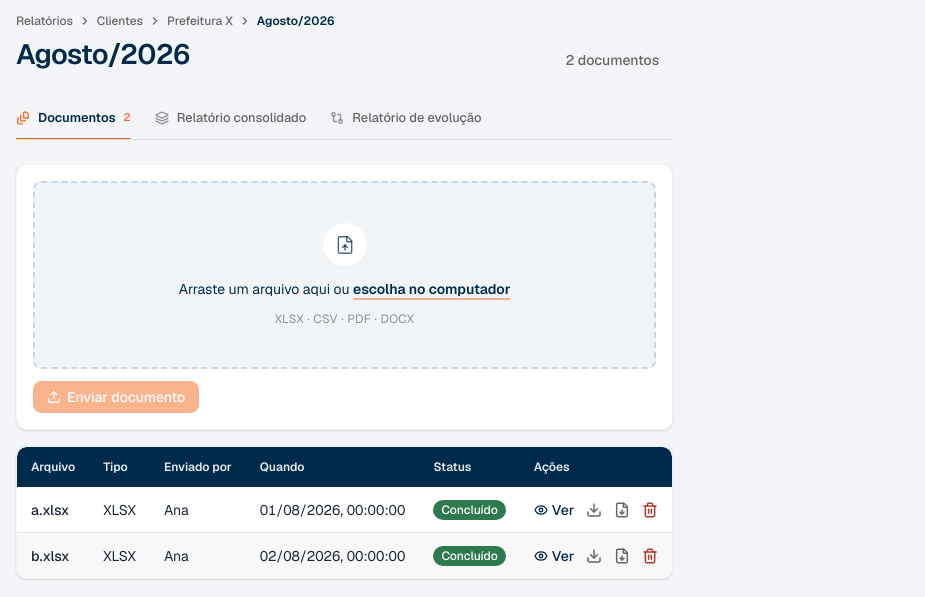
Test: ClienteCompetenciaPage › aba Relatório Consolidado mostra o seletor de documentos quando não há relatório gerado
This screenshot has width=925, height=597.
Check: the heading "Agosto/2026" is shown, box x1=16 y1=37 x2=190 y2=72
Step 1. Click the button "Relatório consolidado" → (230, 118), box x1=155 y1=96 x2=306 y2=139
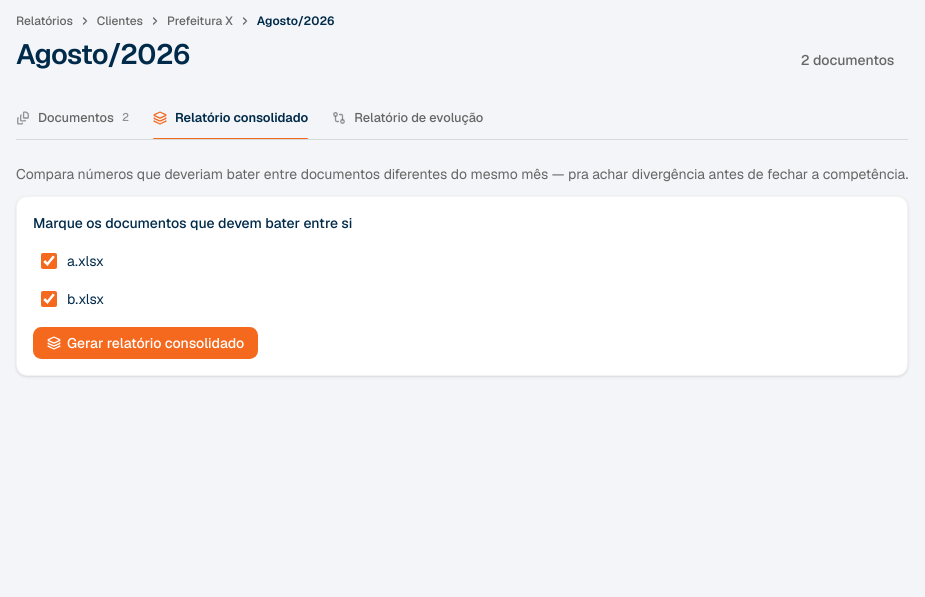
Check: the text "Marque os documentos que devem bater entre si" is shown, box x1=33 y1=214 x2=352 y2=232
Check: the number of checkboxes is 2, box x1=41 y1=253 x2=57 y2=269; x1=41 y1=291 x2=57 y2=307
Check: the button "Gerar relatório consolidado" is shown, box x1=33 y1=327 x2=258 y2=359
